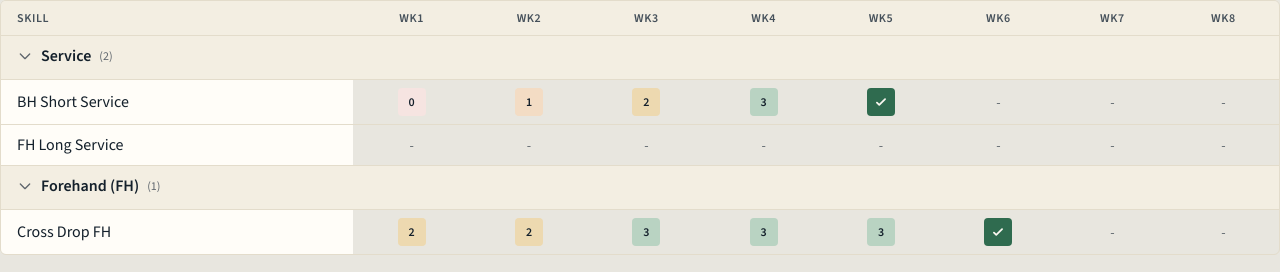
it: SkillProgressHeatmap › collapses category on header click and hides skills
Expected: the button "BH Short Service" is shown, [1,80,353,124]
Note: Click category header to collapse
Click the button with test id "category-header-service" at (66, 56), box [1,36,1279,80]
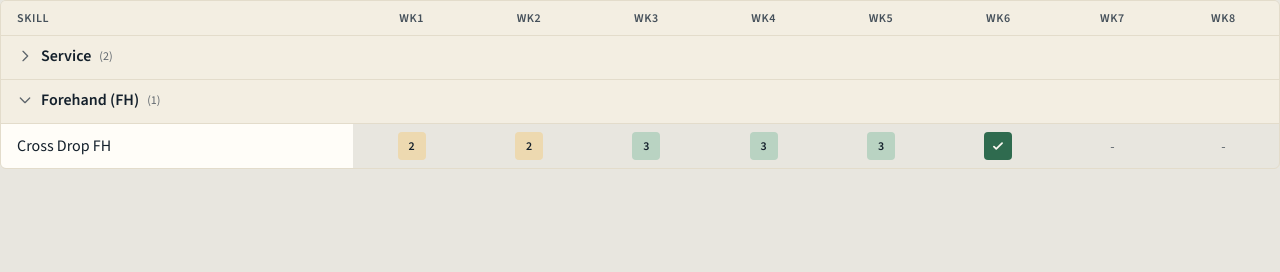
Expected: the button "BH Short Service" is gone
Expected: the button "FH Long Service" is gone
